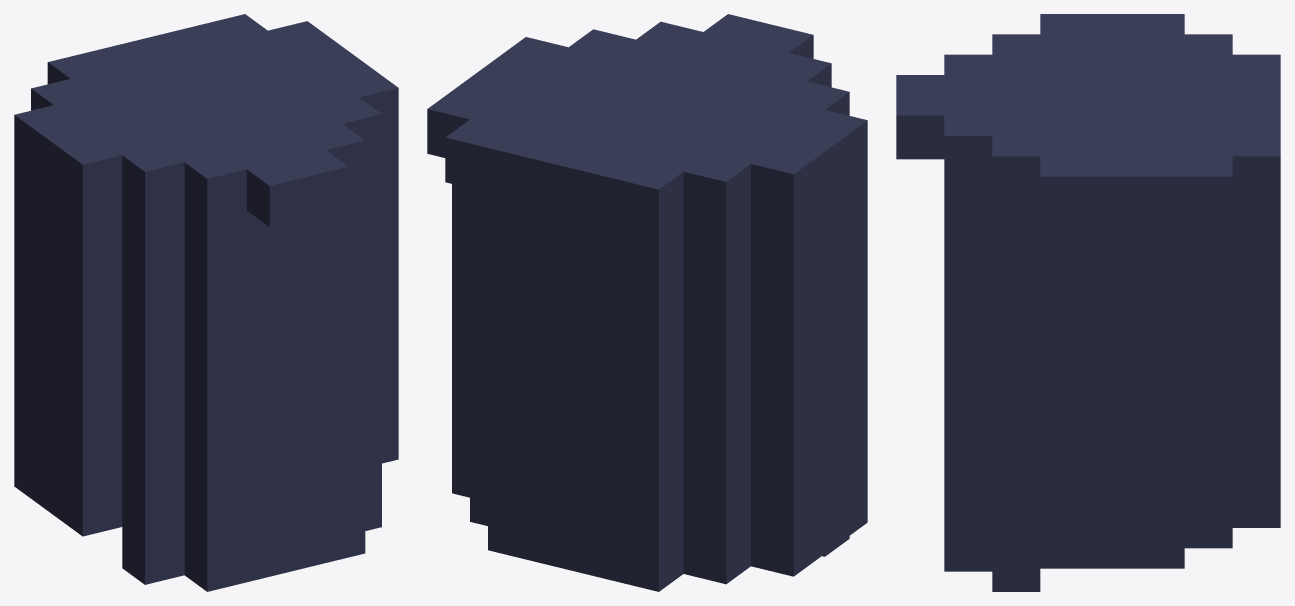
The model's file is EnemySkeleton1-8.obj.
3 renders of one model, left to right at view 1: azimuth 30°, elevation 25°; view 2: azimuth 150°, elevation 25°; view 3: azimuth 270°, elevation 25°, orthographic. The views are drawn at different scales.
Bounding box in the file's own units: 0.8 × 1 × 0.8.
Materials: 1 (1 with a texture image).
